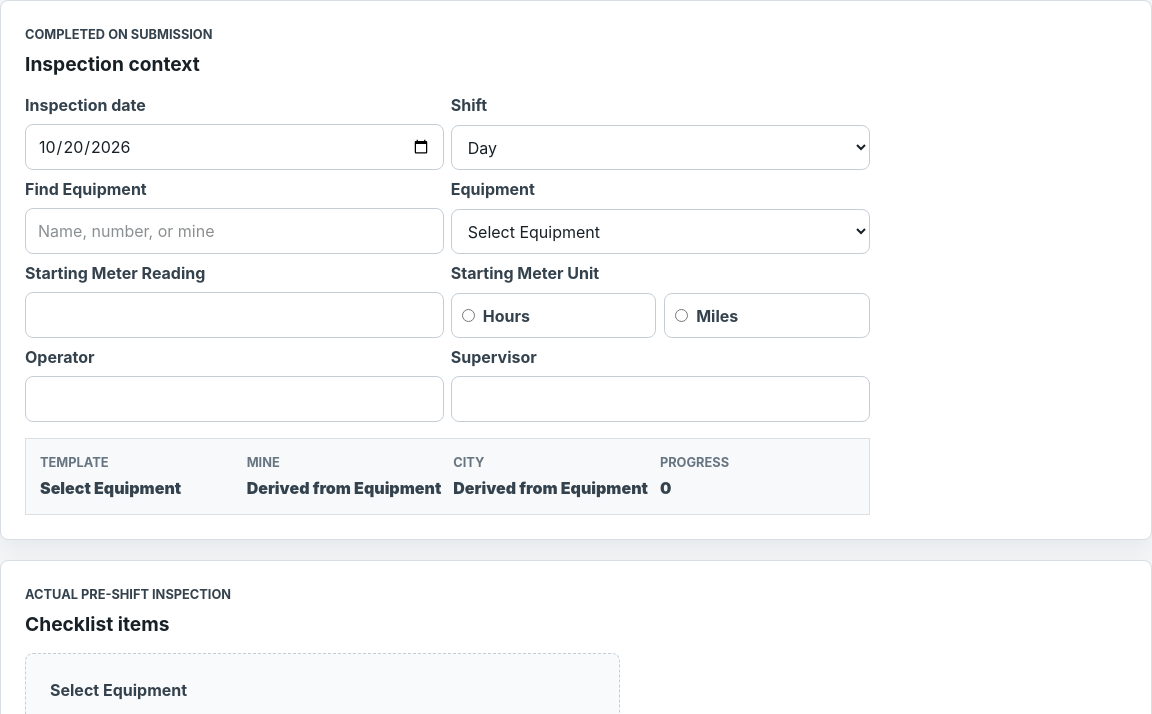
OperationalSafetyChecklistForm › warns and requires explicit confirmation for the truck-1 known-category mismatch
Select "Truck 1 #WT-1 (Mine A)" in the dropdown labelled "Equipment": (660, 232) [451, 209, 870, 254]
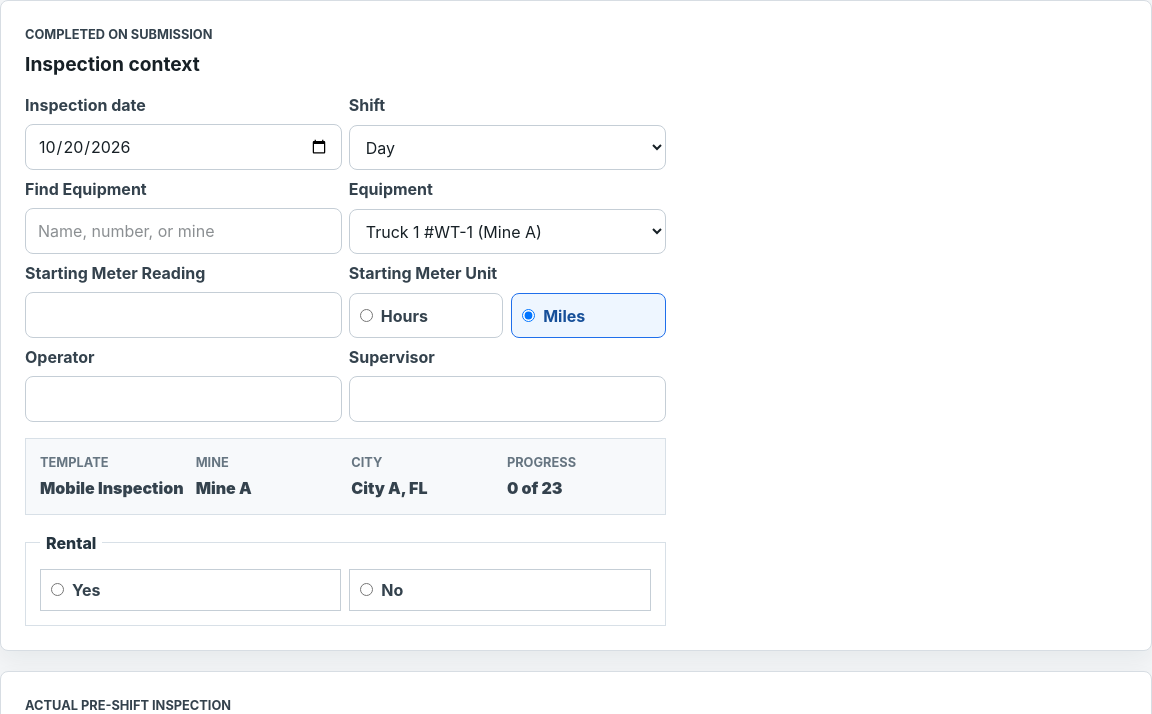
Click the radio button labelled "Hours": (366, 316) [360, 309, 373, 322]
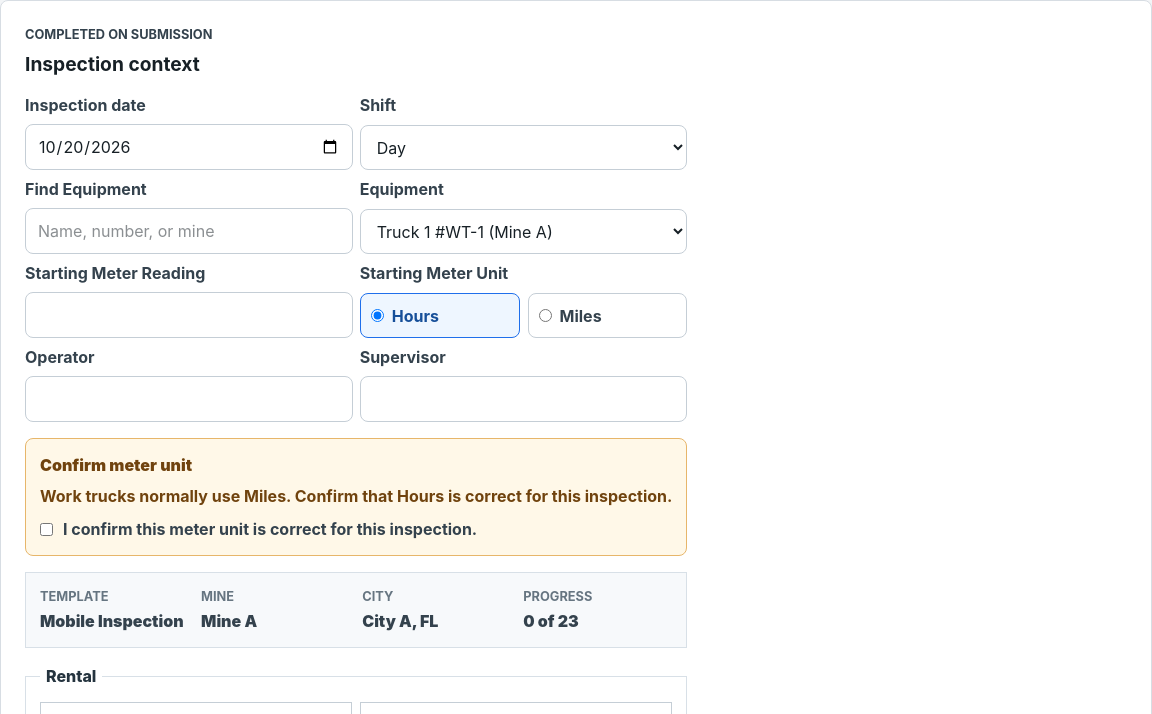
Expected: the message shows "Work trucks normally use Miles. Confirm that Hours is correct for this inspection.", [40, 486, 672, 506]
Expected: the checkbox labelled "I confirm this meter unit is correct for this inspection." is not checked
Click the checkbox labelled "I confirm this meter unit is correct for this inspection.": (46, 529) [40, 522, 53, 536]
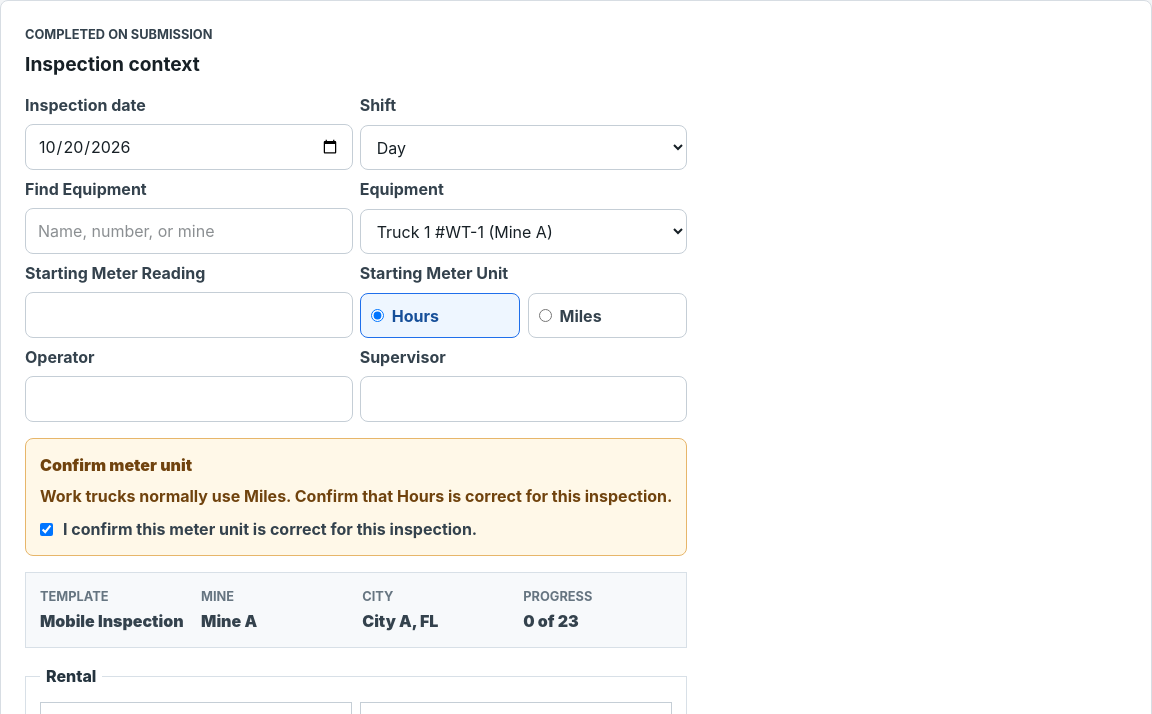
Expected: the checkbox labelled "I confirm this meter unit is correct for this inspection." is checked, [40, 522, 53, 536]
Click the radio button labelled "Miles": (545, 316) [538, 309, 552, 322]
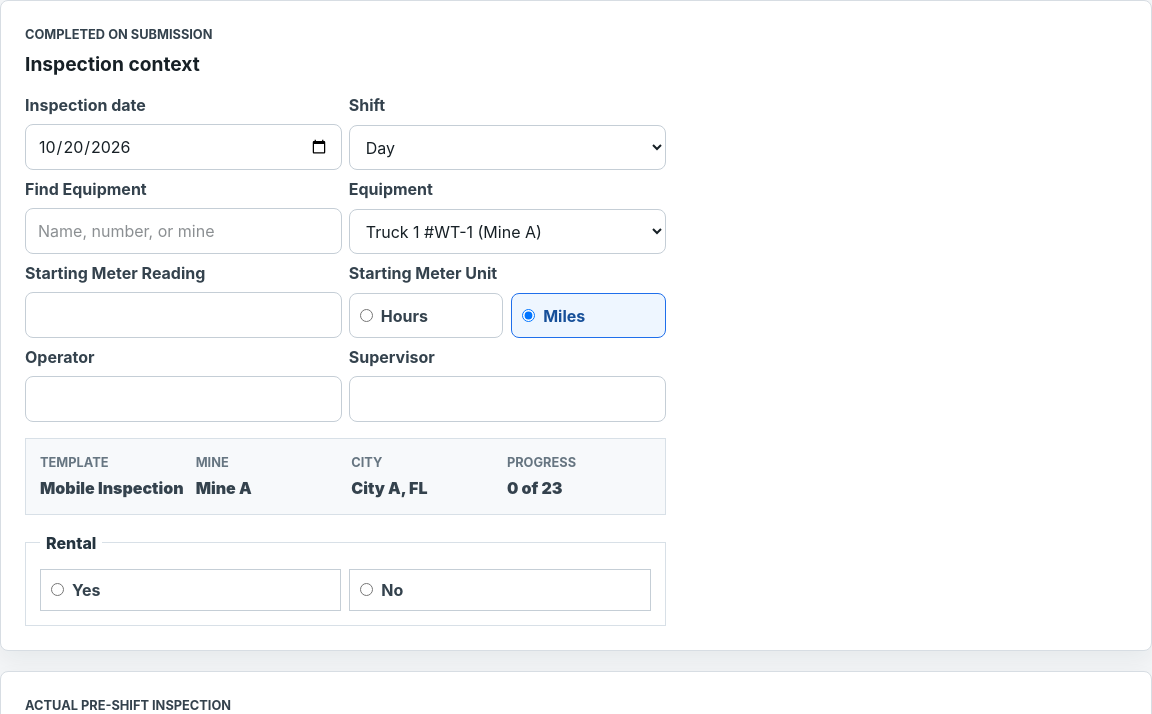
Expected: the text "I confirm" is gone
